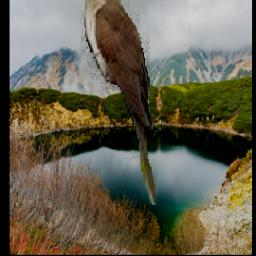Cuckoo: (79, 0, 156, 207)
